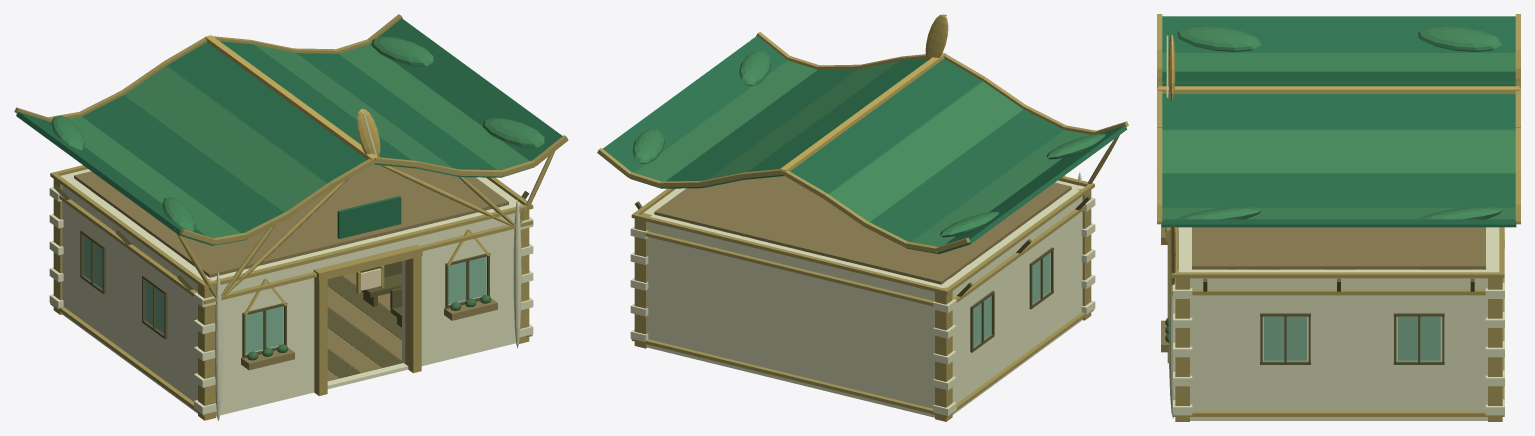
The model's file is QuestHall.glb.
3 renders of one model, left to right at view 1: azimuth 30°, elevation 25°; view 2: azimuth 150°, elevation 25°; view 3: azimuth 270°, elevation 25°, orthographic. The views are drawn at different scales.
Parts seen in each view (by area): view 1: QuestHall_002_Side, QuestHall_095_Ceiling, QuestHall_159_ProfileRoof, QuestHall_040_FrontWing, QuestHall_003_FrontWing, QuestHall_156_ProfileRoof, QuestHall_162_ProfileRoof, QuestHall_183_ProfileRoof, QuestHall_180_ProfileRoof, QuestHall_177_ProfileRoof, QuestHall_165_ProfileRoof, QuestHall_174_ProfileRoof (+36 smaller); view 2: QuestHall_001_Rear, QuestHall_095_Ceiling, QuestHall_002_Side, QuestHall_159_ProfileRoof, QuestHall_156_ProfileRoof, QuestHall_162_ProfileRoof, QuestHall_183_ProfileRoof, QuestHall_180_ProfileRoof, QuestHall_177_ProfileRoof, QuestHall_165_ProfileRoof, QuestHall_174_ProfileRoof, QuestHall_171_ProfileRoof (+19 smaller); view 3: QuestHall_039_Side, QuestHall_174_ProfileRoof, QuestHall_171_ProfileRoof, QuestHall_095_Ceiling, QuestHall_177_ProfileRoof, QuestHall_168_ProfileRoof, QuestHall_165_ProfileRoof, QuestHall_162_ProfileRoof, QuestHall_183_ProfileRoof, QuestHall_180_ProfileRoof, QuestHall_186_Ridge, QuestHall_088_SideCourse (+18 smaller).
Boxes of the visible parts, bbox=[...] form: QuestHall_002_Side: bbox=[60, 174, 212, 412]; QuestHall_095_Ceiling: bbox=[74, 164, 508, 277]; QuestHall_159_ProfileRoof: bbox=[124, 65, 327, 218]; QuestHall_040_FrontWing: bbox=[402, 205, 515, 365]; QuestHall_003_FrontWing: bbox=[202, 252, 322, 414]; QuestHall_156_ProfileRoof: bbox=[166, 42, 367, 183]; QuestHall_162_ProfileRoof: bbox=[82, 95, 286, 239]; QuestHall_183_ProfileRoof: bbox=[370, 18, 562, 167]; QuestHall_180_ProfileRoof: bbox=[339, 44, 533, 177]; QuestHall_177_ProfileRoof: bbox=[296, 53, 500, 177]; QuestHall_165_ProfileRoof: bbox=[51, 116, 244, 245]; QuestHall_174_ProfileRoof: bbox=[253, 44, 458, 176]; QuestHall_001_Rear: bbox=[644, 212, 948, 417]; QuestHall_095_Ceiling: bbox=[654, 176, 1071, 284]; QuestHall_002_Side: bbox=[941, 185, 1084, 412]; QuestHall_159_ProfileRoof: bbox=[828, 81, 1023, 221]; QuestHall_156_ProfileRoof: bbox=[790, 59, 982, 193]; QuestHall_162_ProfileRoof: bbox=[870, 109, 1063, 248]; QuestHall_183_ProfileRoof: bbox=[603, 36, 787, 178]; QuestHall_180_ProfileRoof: bbox=[630, 60, 817, 188]; QuestHall_177_ProfileRoof: bbox=[661, 69, 857, 188]; QuestHall_165_ProfileRoof: bbox=[907, 130, 1091, 254]; QuestHall_174_ProfileRoof: bbox=[702, 61, 898, 187]; QuestHall_171_ProfileRoof: bbox=[743, 58, 926, 179]; QuestHall_039_Side: bbox=[1178, 269, 1499, 420]; QuestHall_174_ProfileRoof: bbox=[1162, 129, 1515, 173]; QuestHall_171_ProfileRoof: bbox=[1162, 94, 1515, 130]; QuestHall_095_Ceiling: bbox=[1192, 227, 1485, 269]; QuestHall_177_ProfileRoof: bbox=[1162, 173, 1515, 207]; QuestHall_168_ProfileRoof: bbox=[1162, 16, 1515, 52]; QuestHall_165_ProfileRoof: bbox=[1162, 53, 1515, 71]; QuestHall_162_ProfileRoof: bbox=[1162, 71, 1515, 82]; QuestHall_183_ProfileRoof: bbox=[1161, 219, 1516, 227]; QuestHall_180_ProfileRoof: bbox=[1162, 207, 1515, 219]; QuestHall_186_Ridge: bbox=[1158, 86, 1519, 93]; QuestHall_088_SideCourse: bbox=[1173, 272, 1504, 278].
Size of the model in its own units: 36.28 by 24.92 by 27.2.
